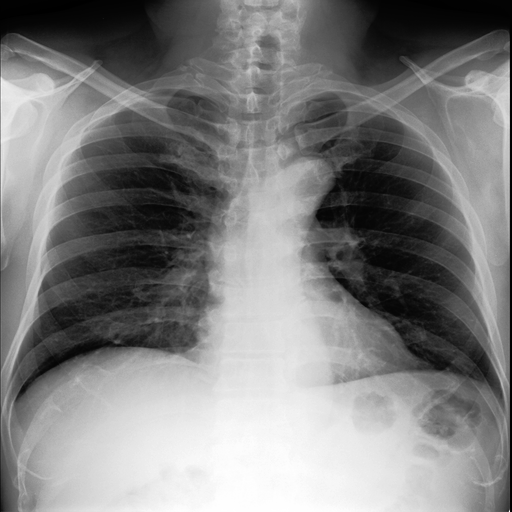Consolidation: (284, 157, 339, 198)
